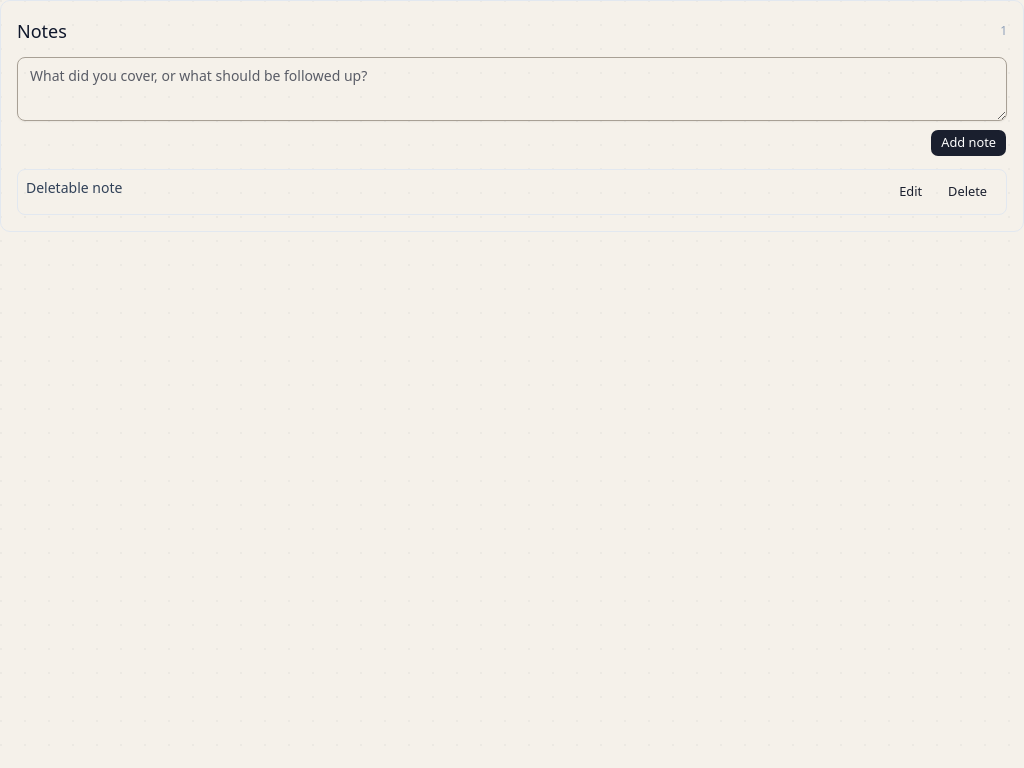
Scenario: NotesSection — CRUD › deletes a note (DELETE) and it disappears
This screenshot has width=1024, height=768.
Check: the text "Deletable note" is shown, box [26,178,122,198]
Step 1. Click the button "Delete" → (968, 192), box [937,178,998,206]
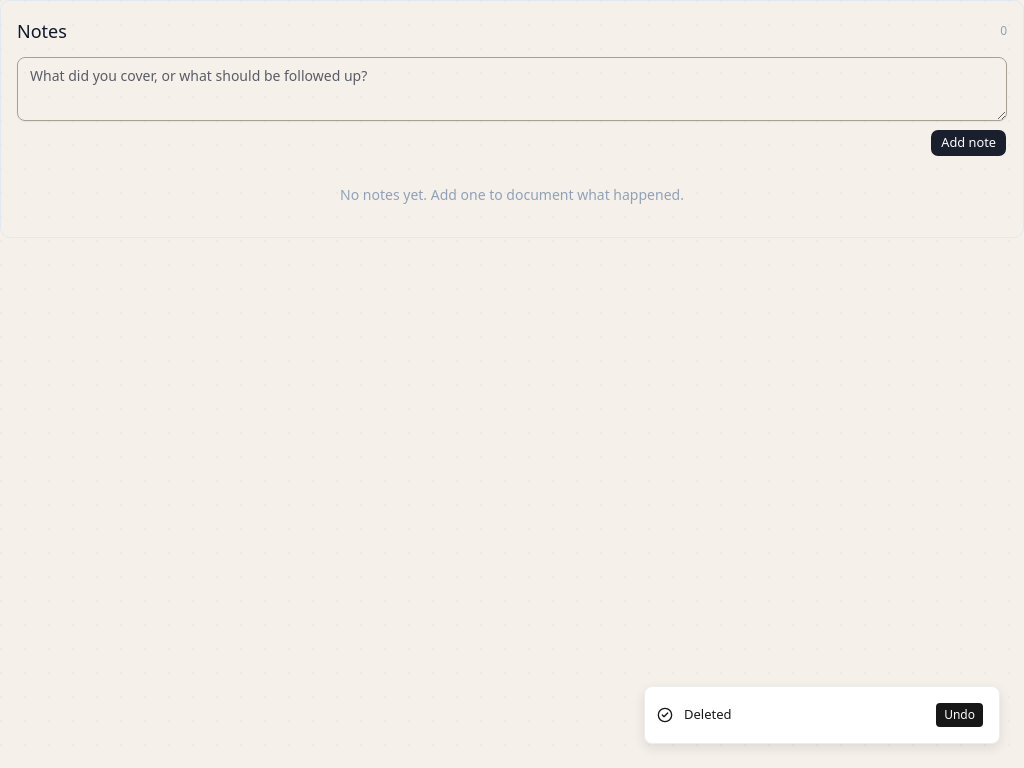
Check: the text "Deletable note" is gone
